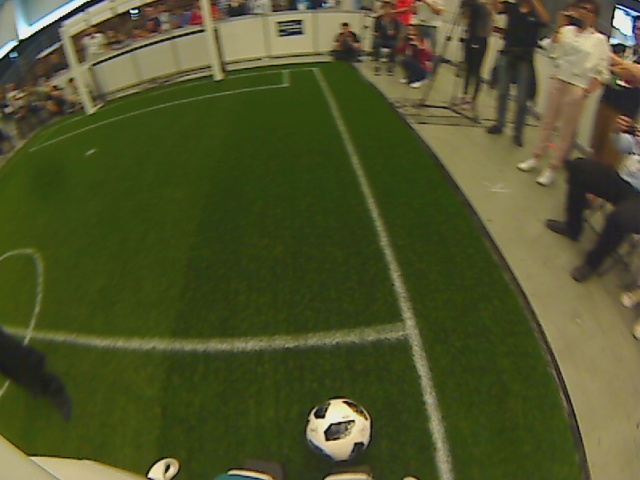ball: (303, 393, 373, 464)
